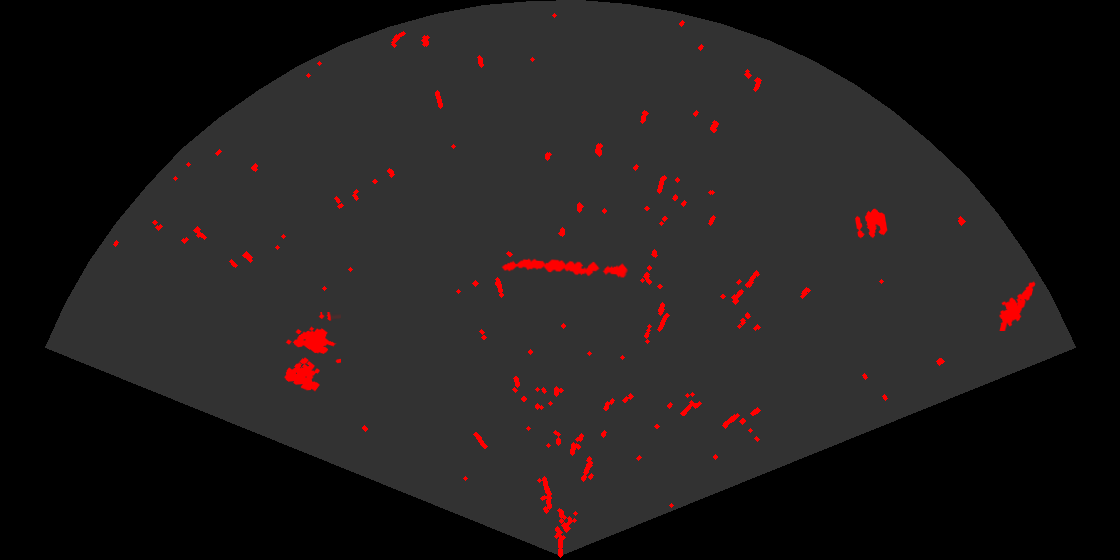ball: (854, 207, 889, 240)
cage: (283, 312, 341, 393)
chain: (500, 257, 630, 279)
frogman: (997, 279, 1037, 331)
